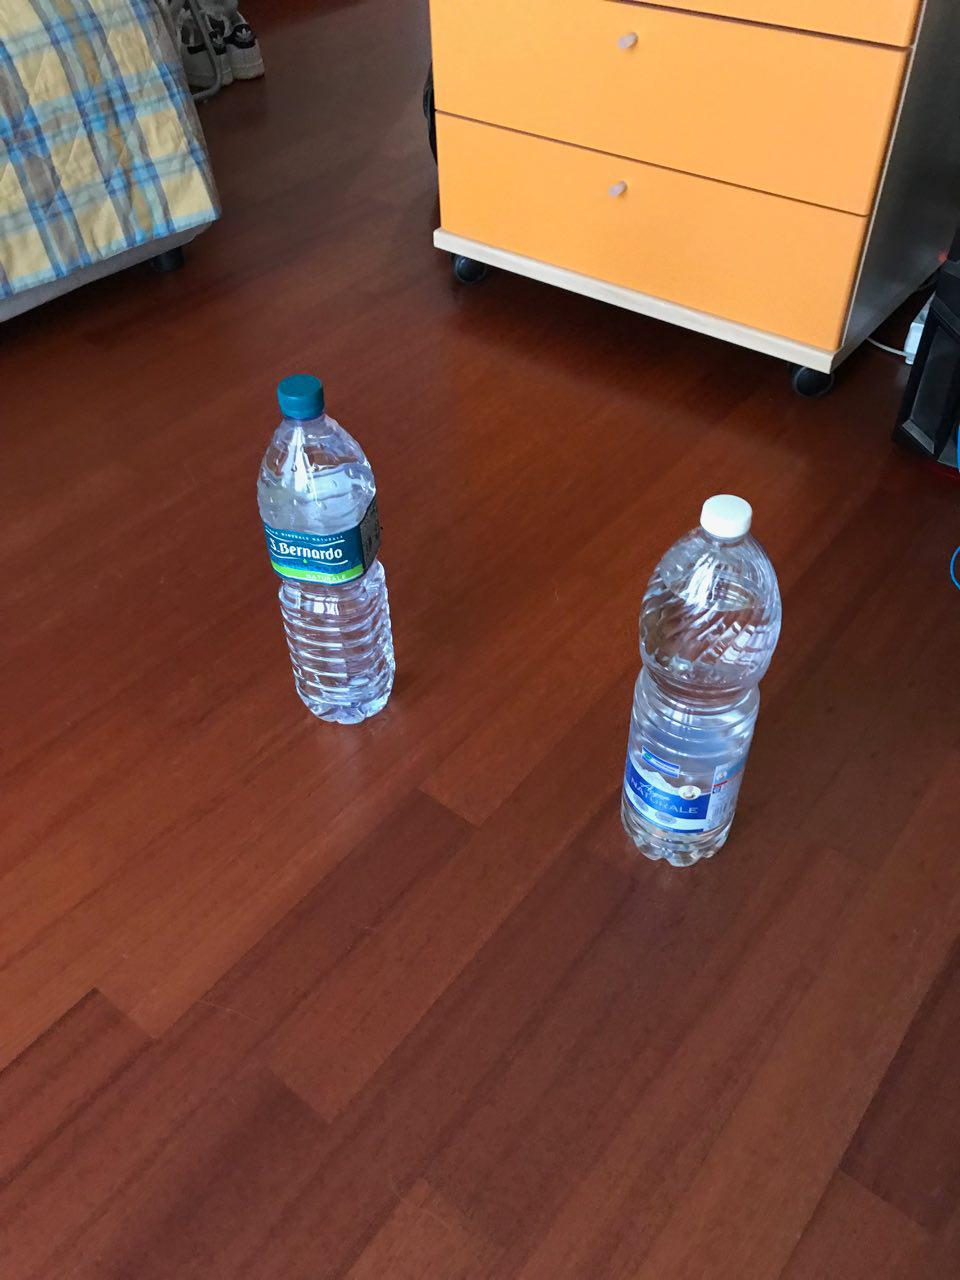san_bernardo: (255, 372, 396, 726)
